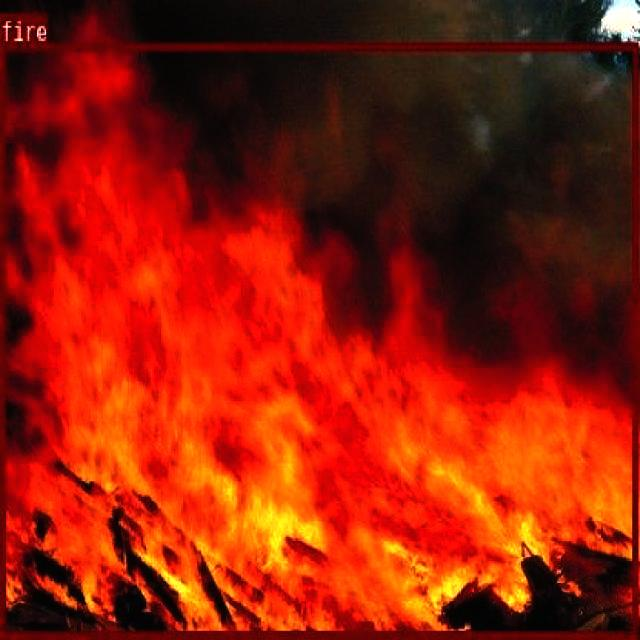fire: (0, 41, 637, 636)
